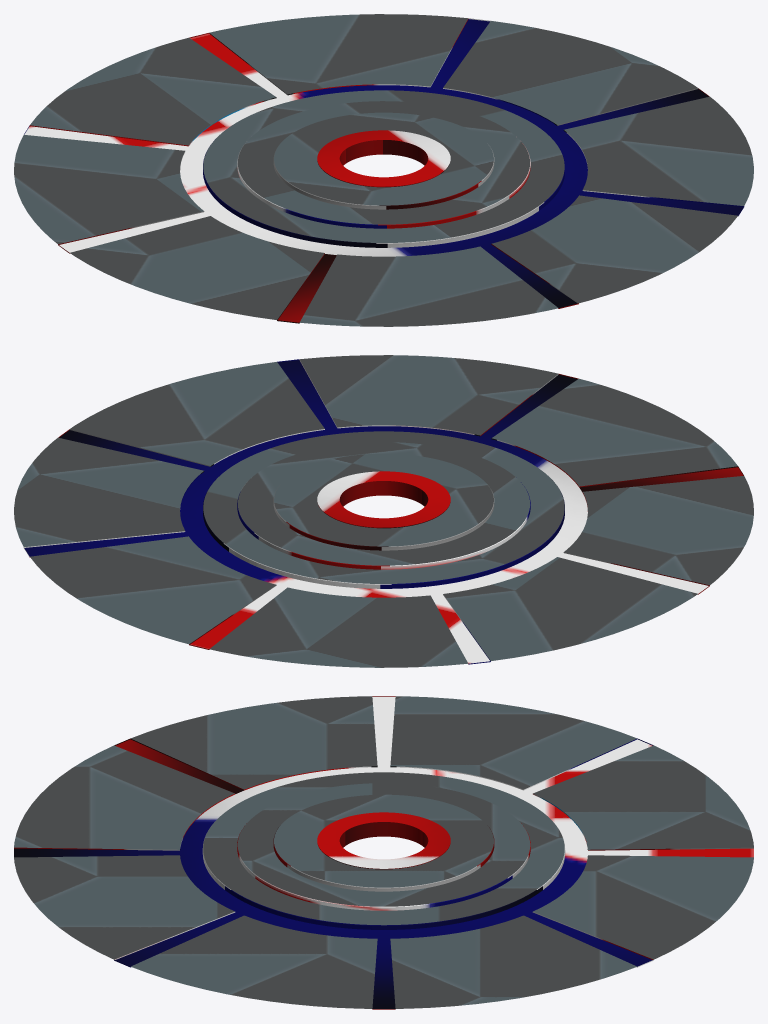
Rendered from OV Floor 1.fbx.
The picture shows the model from 3 angles, top to bottom: view 1: azimuth 30°, elevation 25°; view 2: azimuth 150°, elevation 25°; view 3: azimuth 270°, elevation 25°; orthographic projection.
Visible parts, largest first — view 1: Scene_2:polySurface348; view 2: Scene_2:polySurface348; view 3: Scene_2:polySurface348.
Boxes of the visible parts, bbox=[...] form: Scene_2:polySurface348: bbox=[14, 14, 753, 326]; Scene_2:polySurface348: bbox=[14, 355, 753, 667]; Scene_2:polySurface348: bbox=[14, 696, 753, 1009].
Size of the model in its own units: 1803 by 39.38 by 1803.
